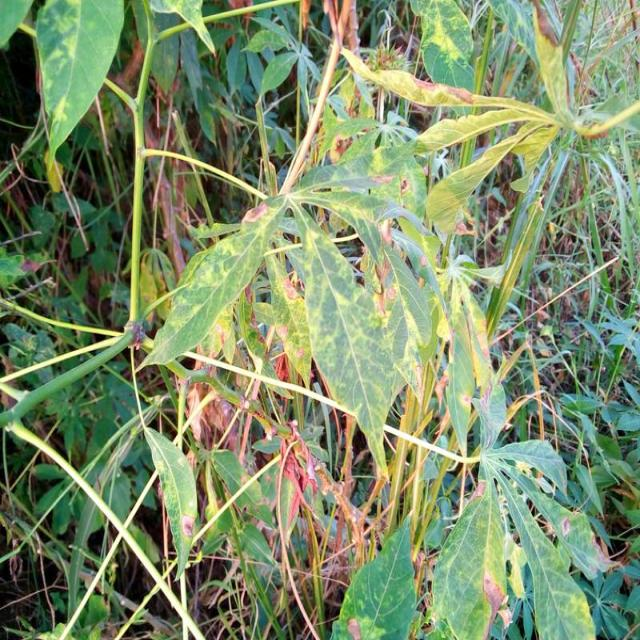cassava leaf: (286, 200, 411, 481), (135, 195, 286, 374), (34, 0, 124, 191), (430, 478, 508, 639), (329, 509, 417, 638), (142, 425, 198, 580)
